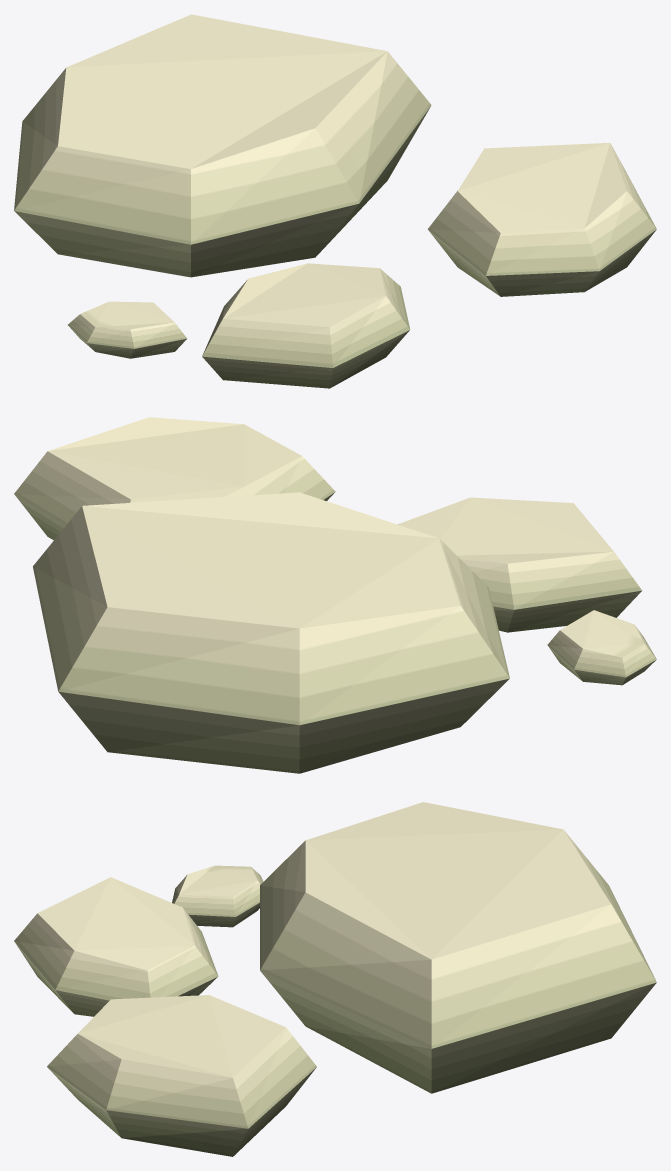
The model's file is rock.fbx.
The picture shows the model from 3 angles, top to bottom: view 1: azimuth 30°, elevation 25°; view 2: azimuth 150°, elevation 25°; view 3: azimuth 270°, elevation 25°; orthographic projection. The views are drawn at different scales.
Visible parts, largest first — view 1: rock; view 2: rock; view 3: rock.
Part boxes in pixels (x1,y1,x2,y2): rock: [14, 14, 656, 388]; rock: [14, 417, 656, 773]; rock: [14, 802, 656, 1156].
Bounding box in the file's own units: 30.69 × 7.26 × 29.67.
